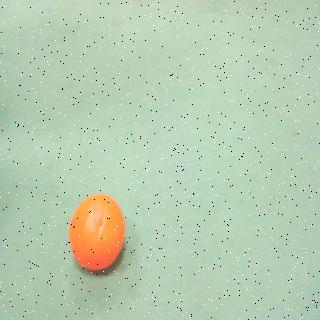orange: (67, 191, 127, 278)
